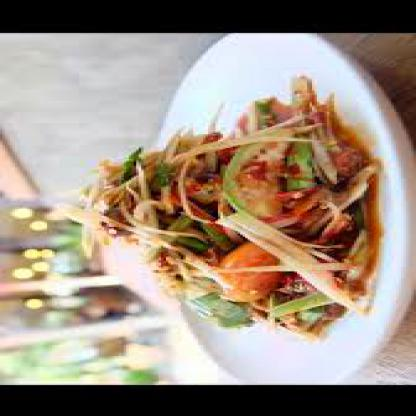Papaya Salad: (57, 75, 411, 369)
